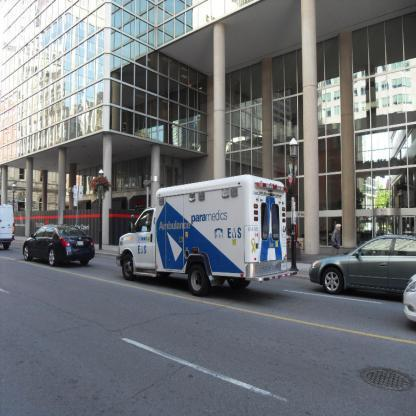Ambulance - v1 Ambulance last generate: (115, 171, 297, 297)
